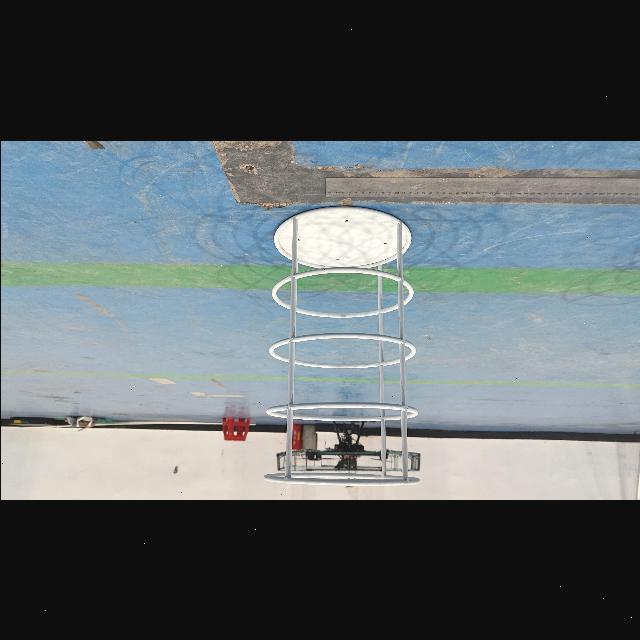S: (261, 200, 431, 488)
